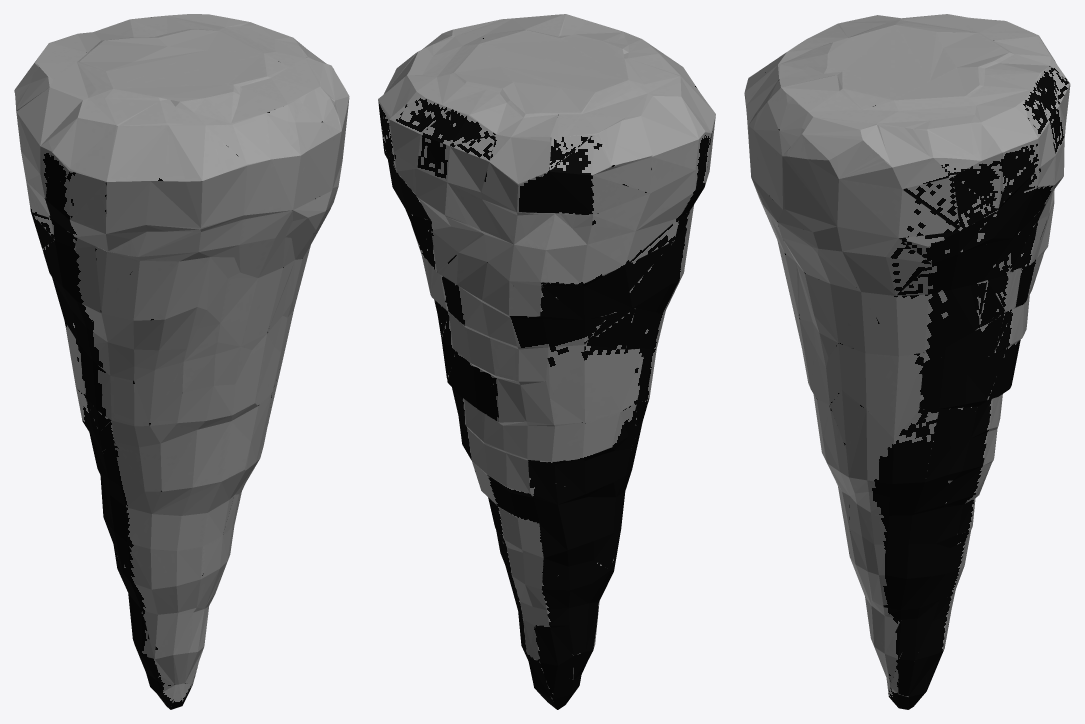
3 views of the same model, side by side, from view 1: azimuth 30°, elevation 25°; view 2: azimuth 150°, elevation 25°; view 3: azimuth 270°, elevation 25° (orthographic).
Parts seen in each view (by area): view 1: OBJ0d3; view 2: OBJ0d3; view 3: OBJ0d3.
Part boxes in pixels (x1,y1,x2,y2): OBJ0d3: [14, 14, 349, 709]; OBJ0d3: [378, 14, 715, 709]; OBJ0d3: [744, 14, 1070, 709].
Size of the model in its own units: 0.1746 by 0.3666 by 0.1661.
1 material, 1 textured.
